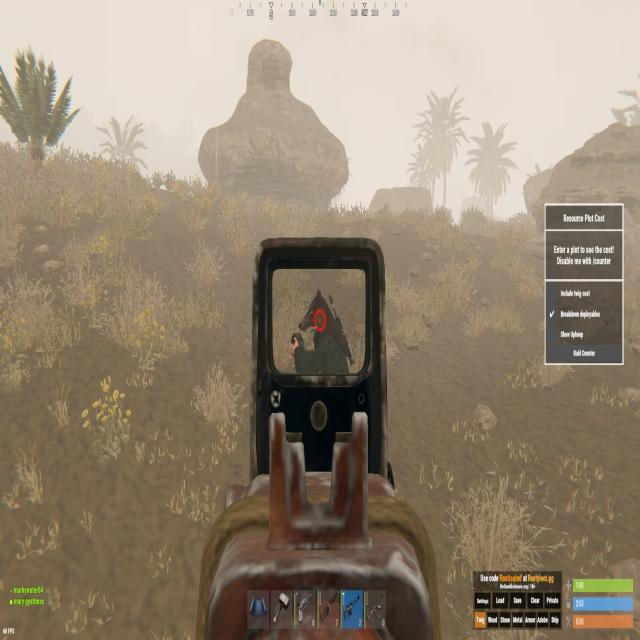Player: (289, 283, 354, 374)
